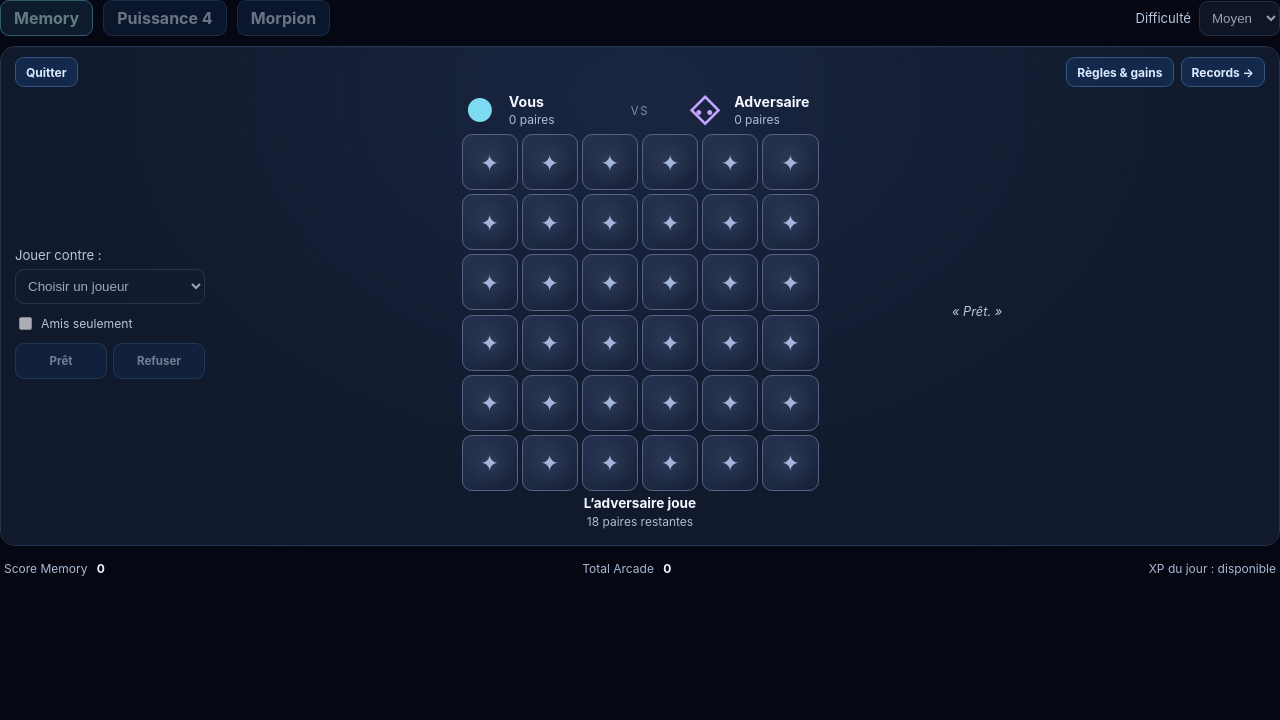
Test: Arcade interface and session lifecycle › automatically resumes MEMORY across turns, Records, visibility, feedback and navigation
Expected: the button "Memory" is disabled, [0,0,93,36]
Expected: the button "Puissance 4" is disabled, [103,0,227,36]
Step 1. Click the button "Records →" → (1223, 72), box [1180,57,1265,87]
Wait 2000 ms
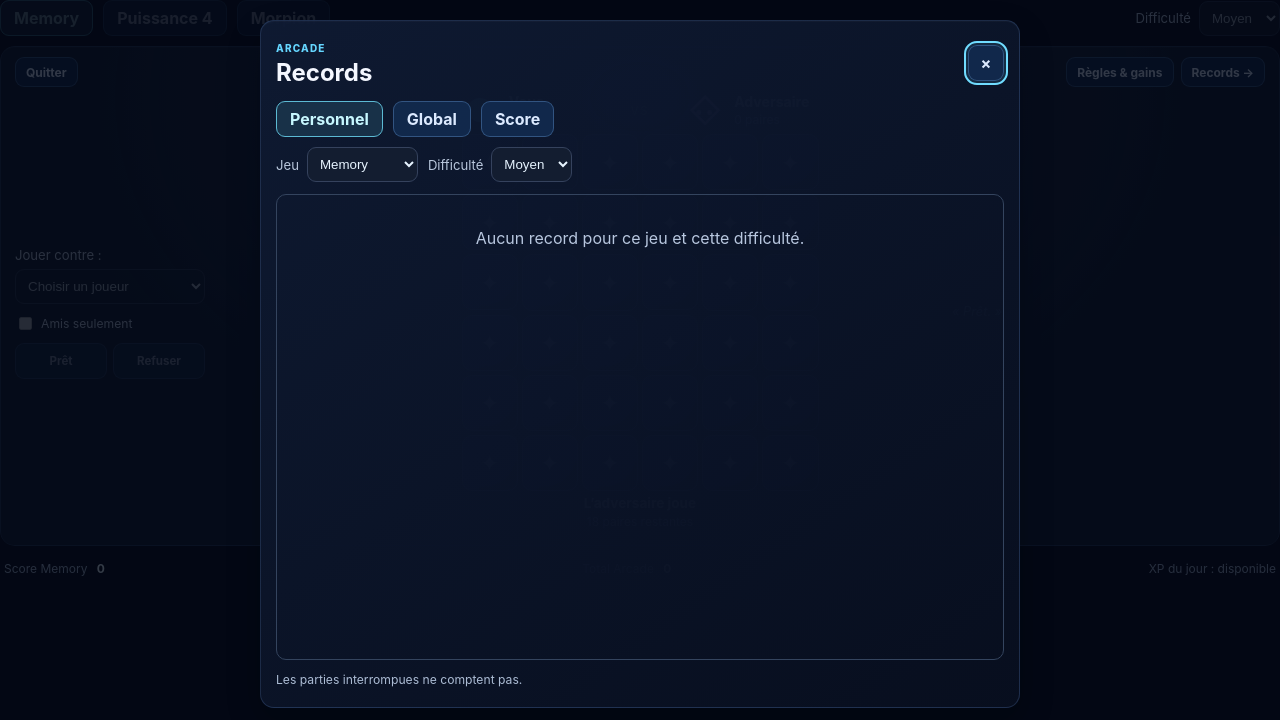
Step 2. Press Escape in the button "×", box [968,44,1004,80]
Wait 9200 ms
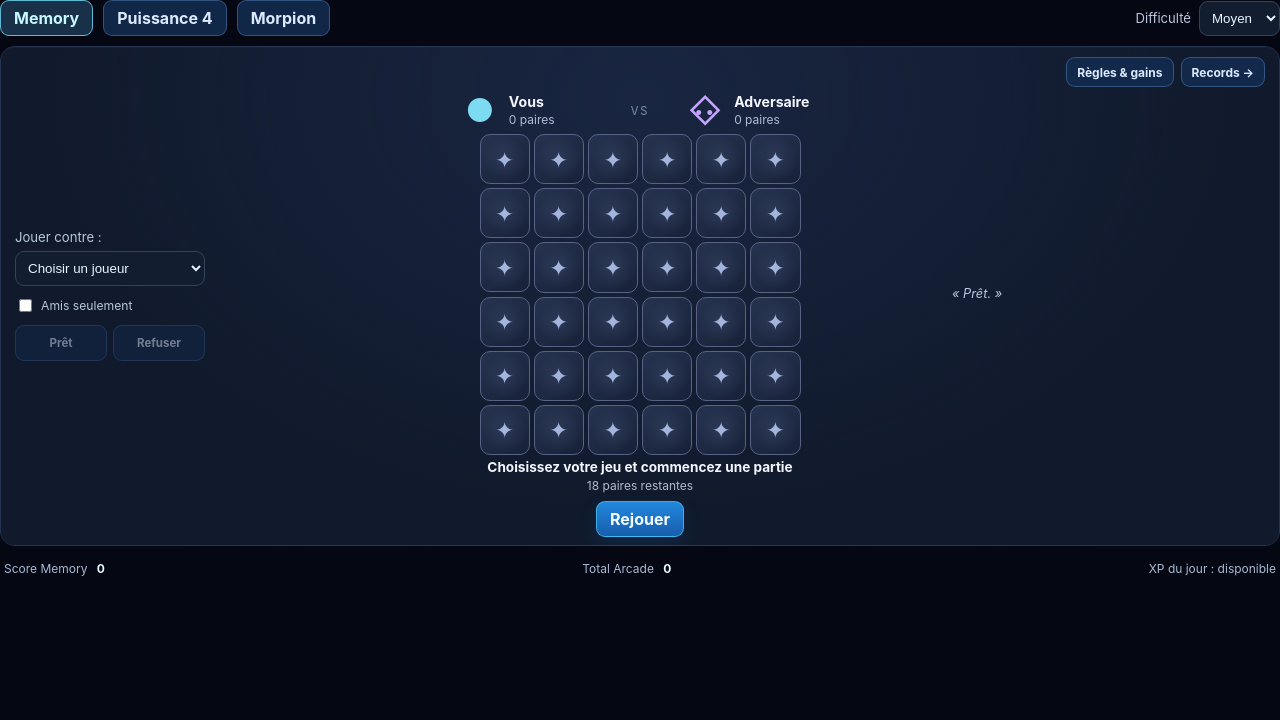
Expected: the button "Memory" is enabled, [0,0,93,36]
Expected: the button "Puissance 4" is enabled, [103,0,227,36]
Expected: the button "Morpion" is enabled, [237,0,330,36]
